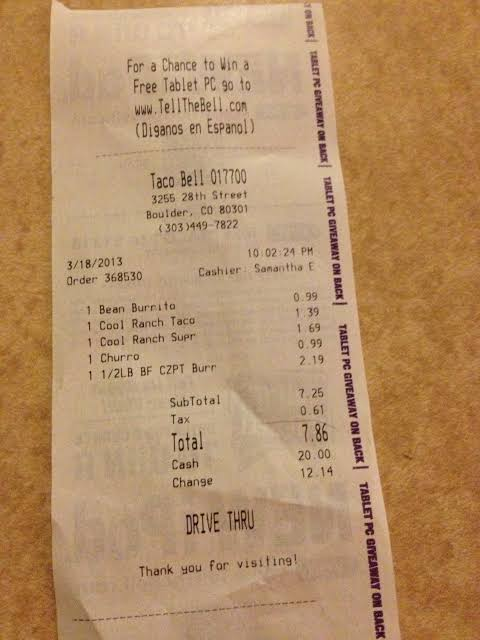Taco Bell: (147, 163, 207, 192)
